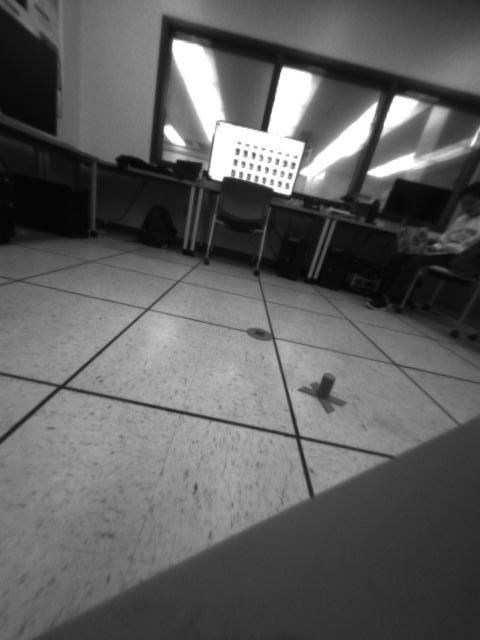X: (298, 372, 348, 415)
